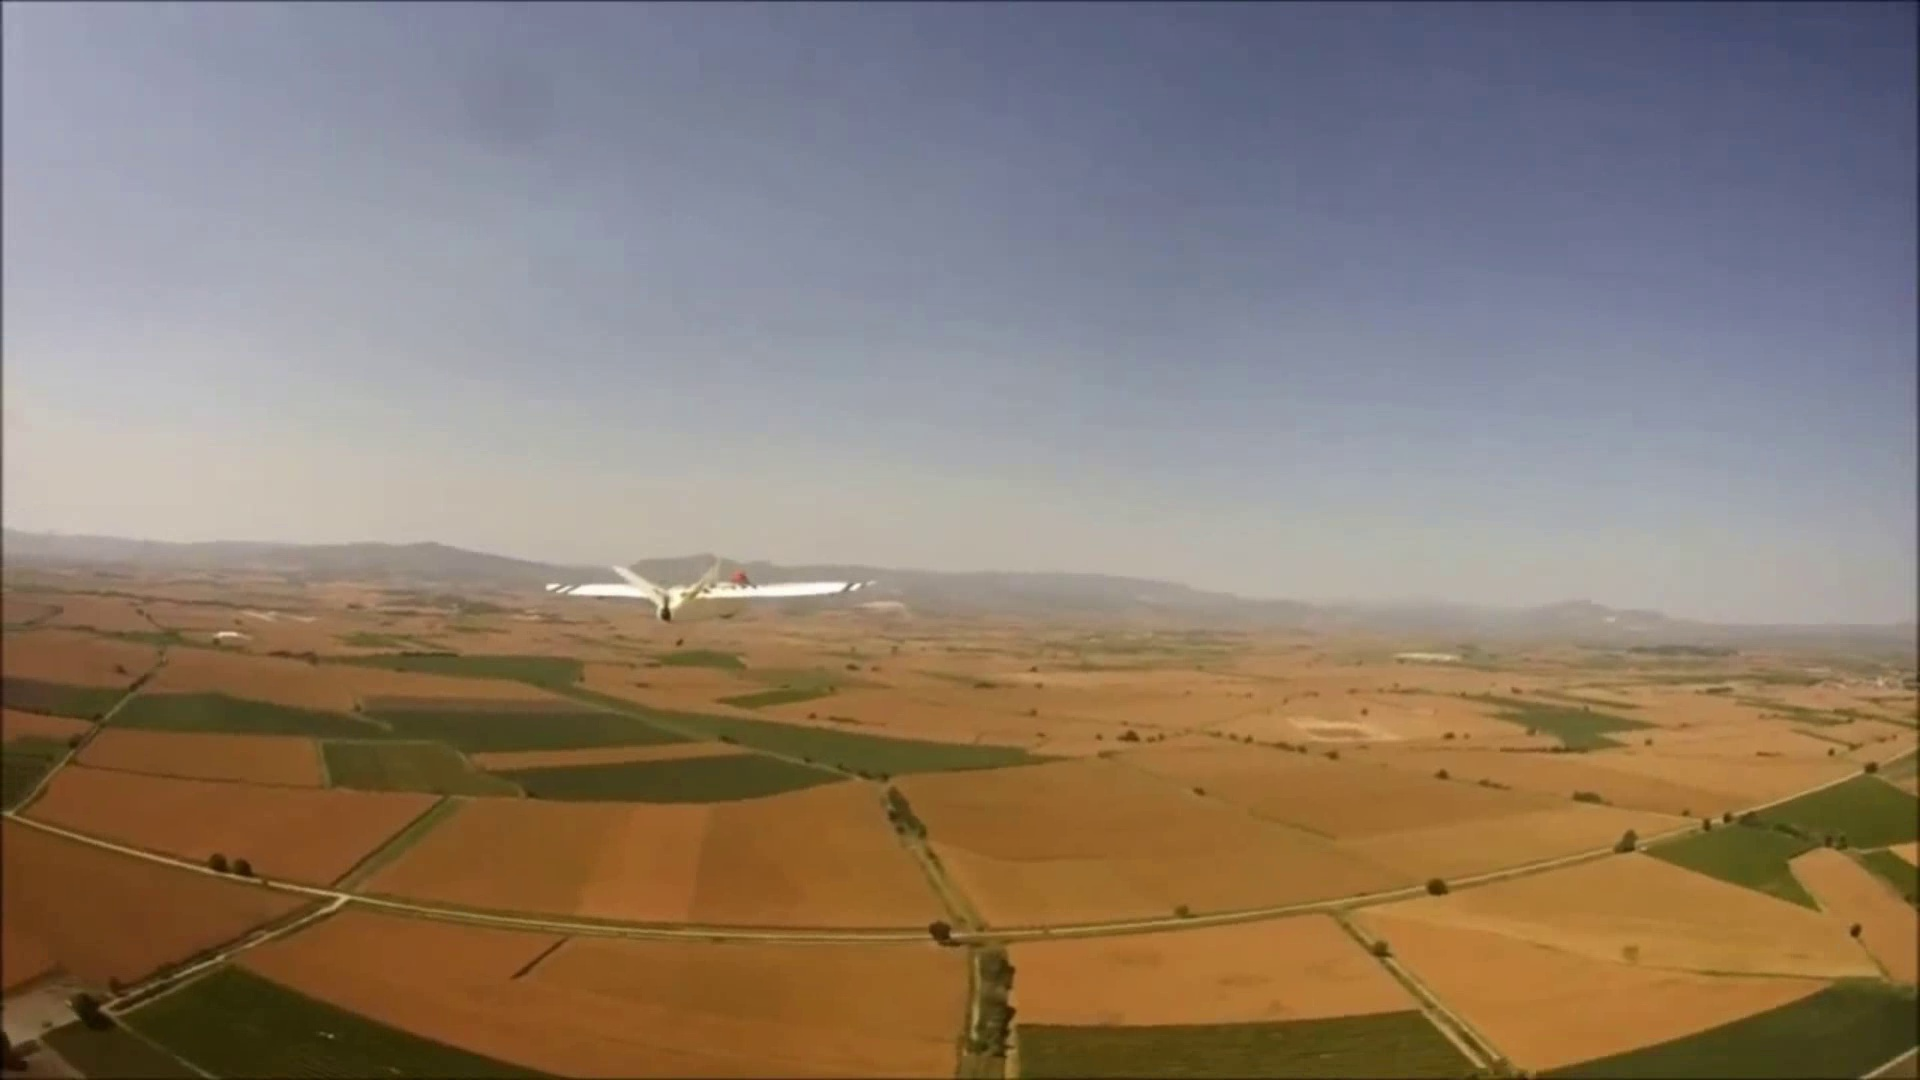airplane: (7, 702, 1683, 1067), (433, 553, 876, 634)
